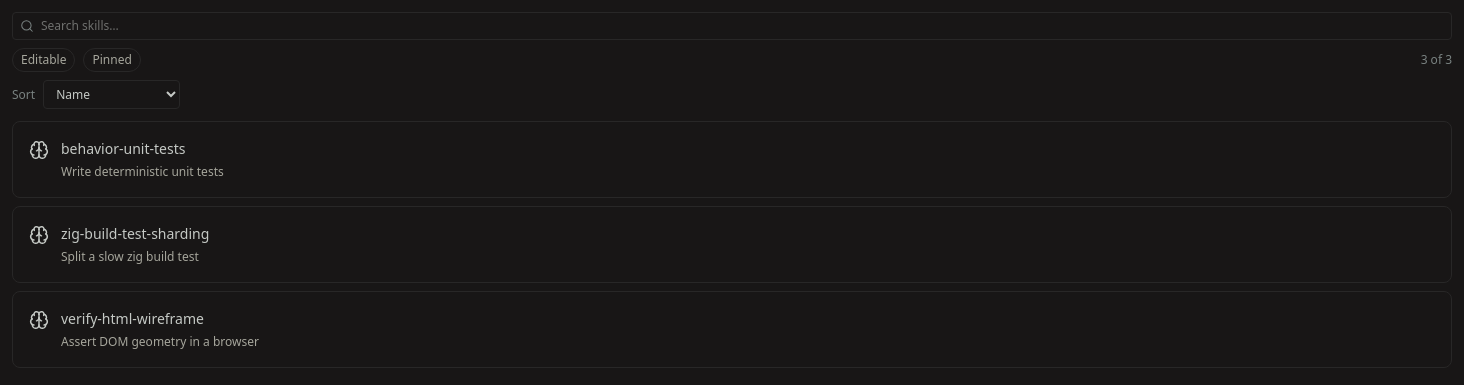
Test: SkillList — facets › ANDs the query with the facet
The image size is (1464, 385).
Type "zig" into the field with test id "skill-search-input".
click(732, 26); type("zig")  # box [12, 12, 1452, 40]
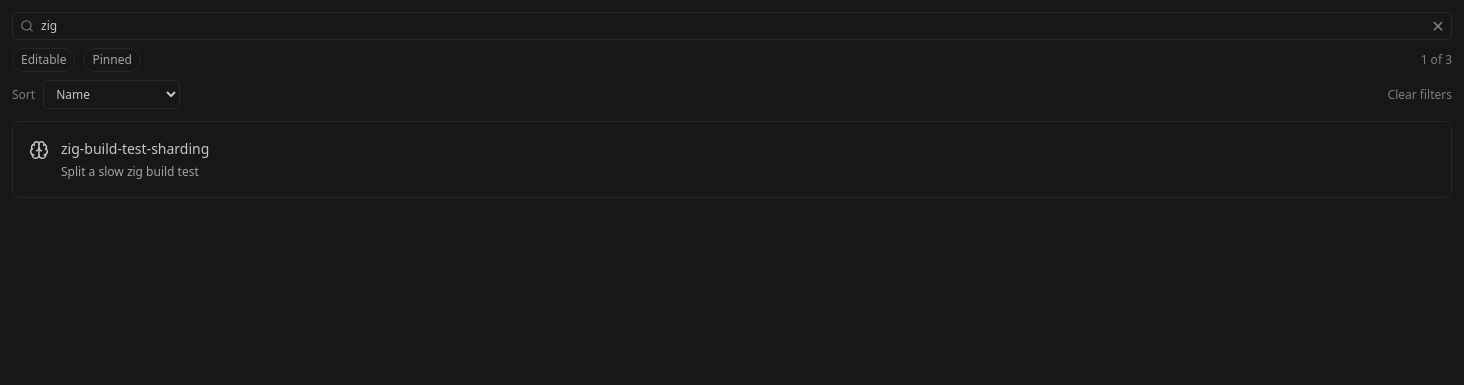
Click the button with test id "skill-facet-pinned".
click(112, 60)  # box [84, 48, 141, 72]
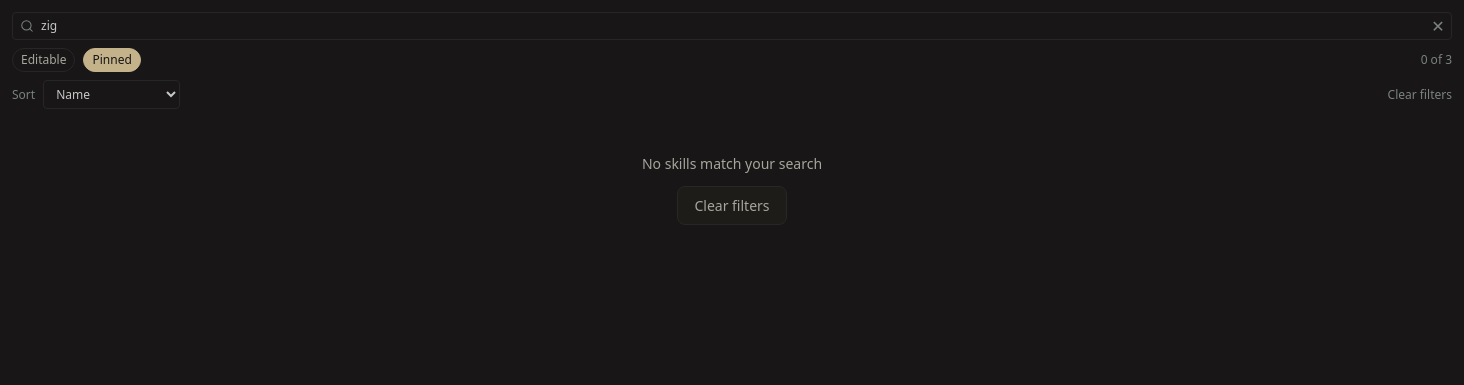
Now the element with test id "skill-list-no-match" is shown, box [642, 154, 822, 225]
